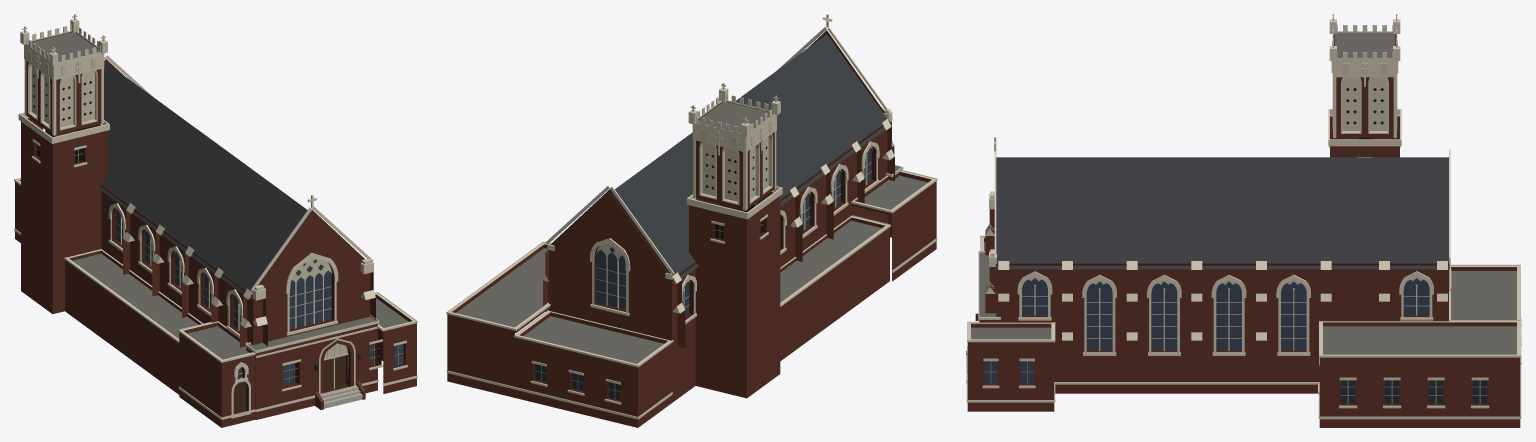
Rendered from ch-pulaski-heights-methodist-1961.glb.
3 renders of one model, left to right at view 1: azimuth 30°, elevation 25°; view 2: azimuth 150°, elevation 25°; view 3: azimuth 270°, elevation 25°, orthographic. The views are drawn at different scales.
Visible parts, largest first — view 1: ch_brick, ch_roof, ch_trim, ch_roof2, ch_trc, ch_stain, ch_brick2, ch_door, ch_conc; view 2: ch_brick, ch_roof, ch_trim, ch_roof2, ch_trc, ch_stain, ch_brick2, ch_glass; view 3: ch_brick, ch_roof, ch_trim, ch_roof2, ch_stain, ch_trc, ch_brick2, ch_glass.
Part boxes in pixels (x1,y1,x2,y2): ch_brick: (15, 31, 416, 427); ch_roof: (98, 62, 356, 299); ch_trim: (14, 14, 417, 419); ch_roof2: (28, 32, 408, 359); ch_trc: (28, 50, 347, 374); ch_stain: (116, 209, 403, 384); ch_brick2: (33, 128, 405, 414); ch_door: (233, 355, 345, 413); ch_conc: (320, 386, 362, 408); ch_brick: (447, 30, 936, 427); ch_roof: (546, 34, 891, 283); ch_trim: (446, 14, 937, 419); ch_roof2: (456, 102, 927, 363); ch_trc: (596, 120, 872, 308); ch_stain: (597, 148, 871, 315); ch_brick2: (533, 120, 889, 402); ch_glass: (535, 364, 619, 399); ch_brick: (966, 32, 1520, 427); ch_roof: (995, 157, 1449, 269); ch_trim: (966, 14, 1521, 419); ch_roof2: (971, 33, 1516, 354); ch_stain: (984, 278, 1429, 383); ch_trc: (1022, 40, 1429, 350); ch_brick2: (984, 263, 1487, 405); ch_glass: (1341, 380, 1487, 403).
Bounding box in the file's own units: 22.86 × 24.85 × 42.94.
